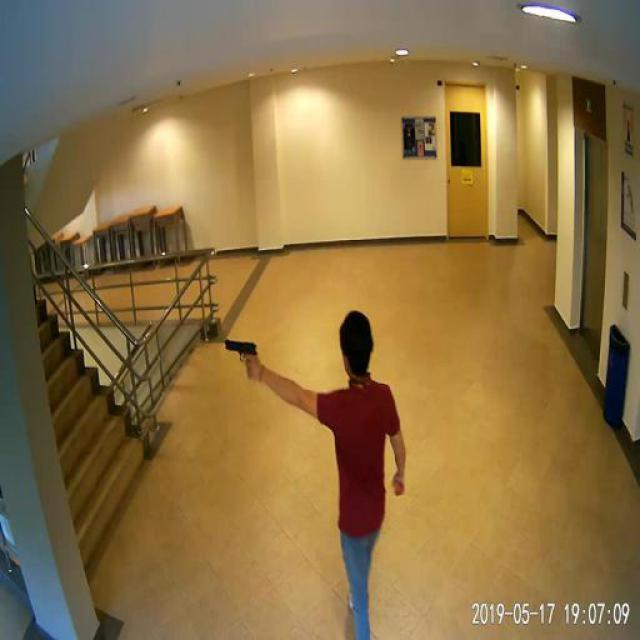weapon: (222, 339, 258, 373)
